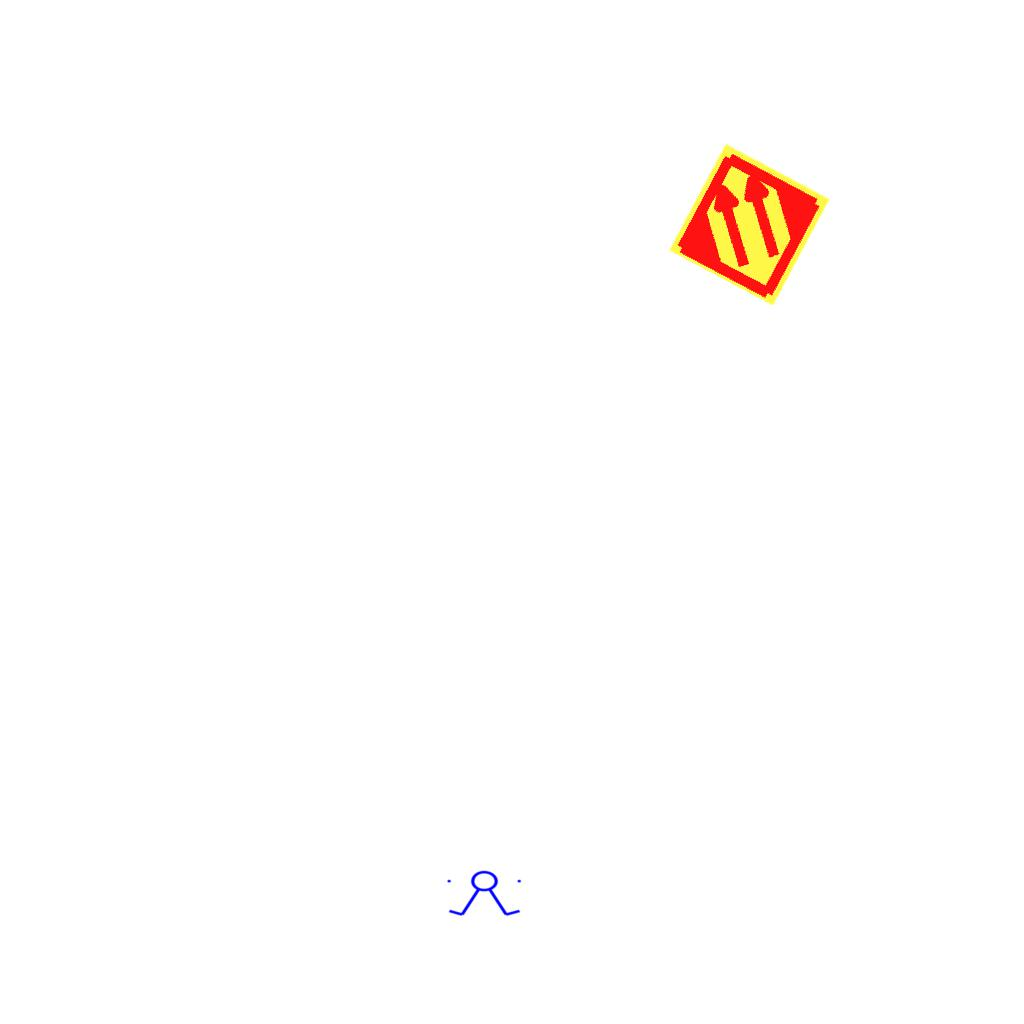ASR_Ansaugrauchmelder: (664, 139, 835, 310)
Serienschalter: (443, 870, 527, 918)
